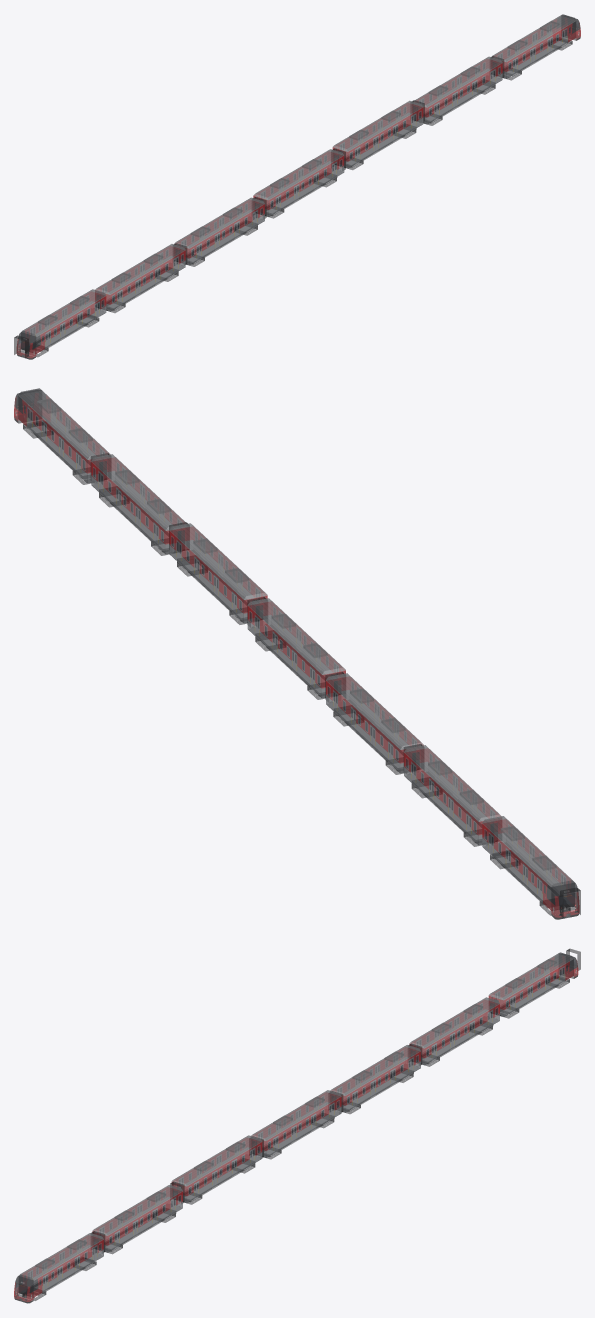
The model's file is TREM.preview.glb.
The picture shows the model from 3 angles, top to bottom: view 1: azimuth 90°, elevation 25°; view 2: azimuth 150°, elevation 25°; view 3: azimuth 270°, elevation 25°; orthographic projection. The views are drawn at different scales.
Visible parts, largest first — view 1: obj_18540; view 2: obj_18540; view 3: obj_18540.
Boxes of the visible parts, <box> form: obj_18540: <box>14,14,580,359</box>; obj_18540: <box>14,388,580,919</box>; obj_18540: <box>14,948,580,1303</box>.
Size of the model in its own units: 725 by 31.26 by 524.
1 material, 1 textured.
